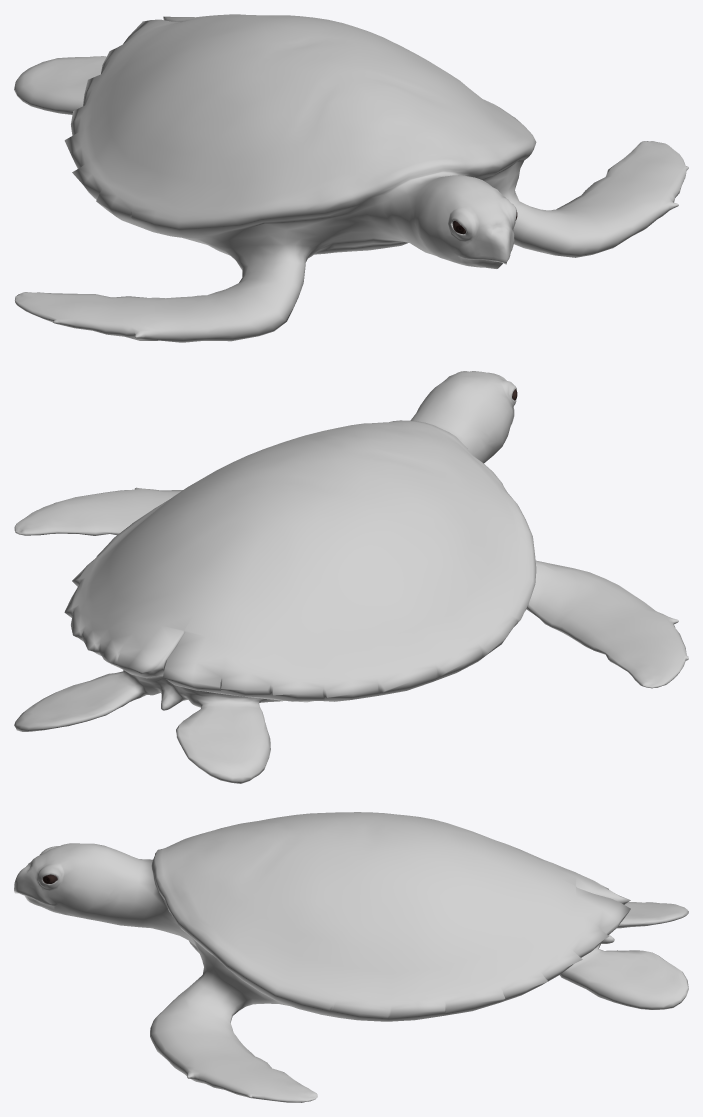
3 renders of one model, top to bottom at view 1: azimuth 30°, elevation 25°; view 2: azimuth 150°, elevation 25°; view 3: azimuth 270°, elevation 25°, orthographic. The views are drawn at different scales.
Visible parts, largest first — view 1: turtle; view 2: turtle; view 3: turtle.
Boxes of the visible parts, left/top/right/bottom form: turtle: left=14, top=14, right=688, bottom=342; turtle: left=14, top=371, right=688, bottom=783; turtle: left=14, top=812, right=688, bottom=1102.
Size of the model in its own units: 1.94 by 0.4769 by 2.
